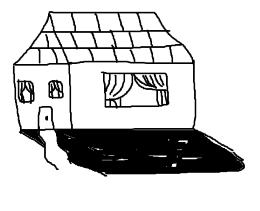door: (33, 102, 60, 134)
open_window: (99, 69, 173, 109), (14, 77, 37, 106), (46, 76, 67, 102)
roof: (9, 2, 204, 67)
shadow: (19, 122, 248, 179)
wall: (67, 58, 199, 131)
